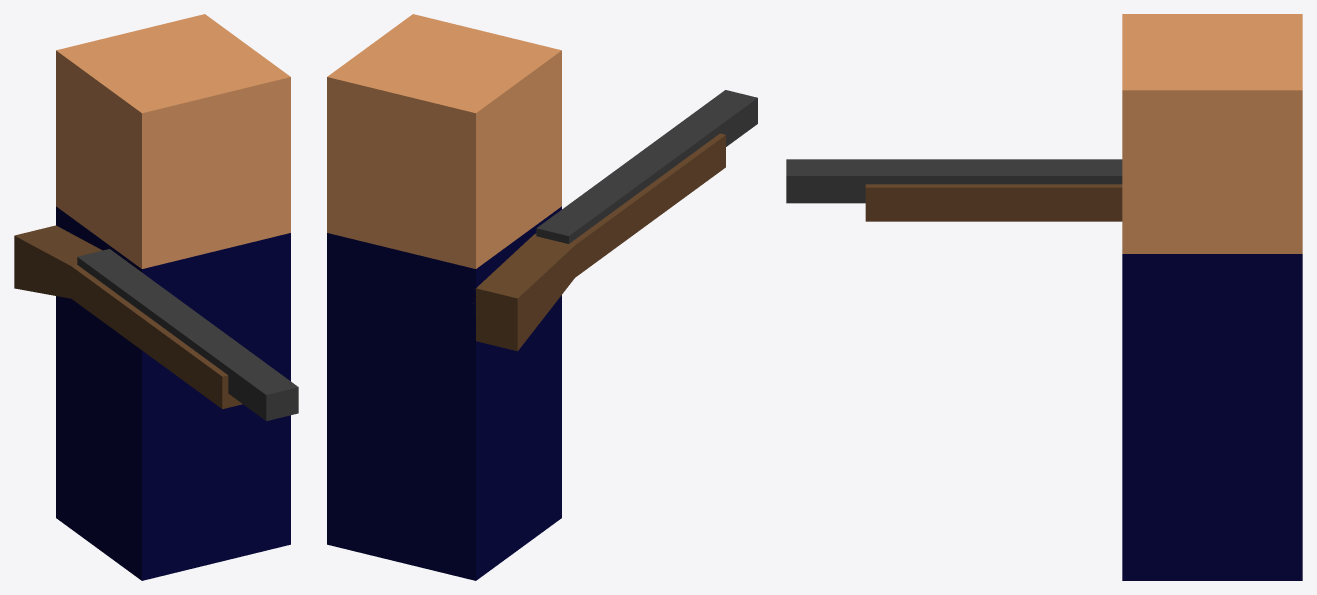
Rendered from unit-soldier-blue.glb.
3 views of the same model, side by side, from view 1: azimuth 30°, elevation 25°; view 2: azimuth 150°, elevation 25°; view 3: azimuth 270°, elevation 25° (orthographic). The views are drawn at different scales.
Visible parts, largest first — view 1: Cube, Cube.001, Cube.003, Cube.002; view 2: Cube, Cube.001, Cube.003, Cube.002; view 3: Cube, Cube.001, Cube.002, Cube.003.
Boxes of the visible parts, x1,y1,x2,y2 form: Cube: (56, 206, 290, 580); Cube.001: (56, 14, 290, 268); Cube.003: (14, 225, 242, 409); Cube.002: (77, 249, 298, 421); Cube: (327, 206, 561, 580); Cube.001: (327, 14, 561, 268); Cube.003: (473, 133, 725, 351); Cube.002: (536, 90, 757, 243); Cube: (1122, 254, 1302, 580); Cube.001: (1122, 14, 1302, 253); Cube.002: (786, 159, 1122, 203); Cube.003: (865, 184, 1122, 221).
Bounding box in the file's own units: 2.56 × 6 × 5.72.
